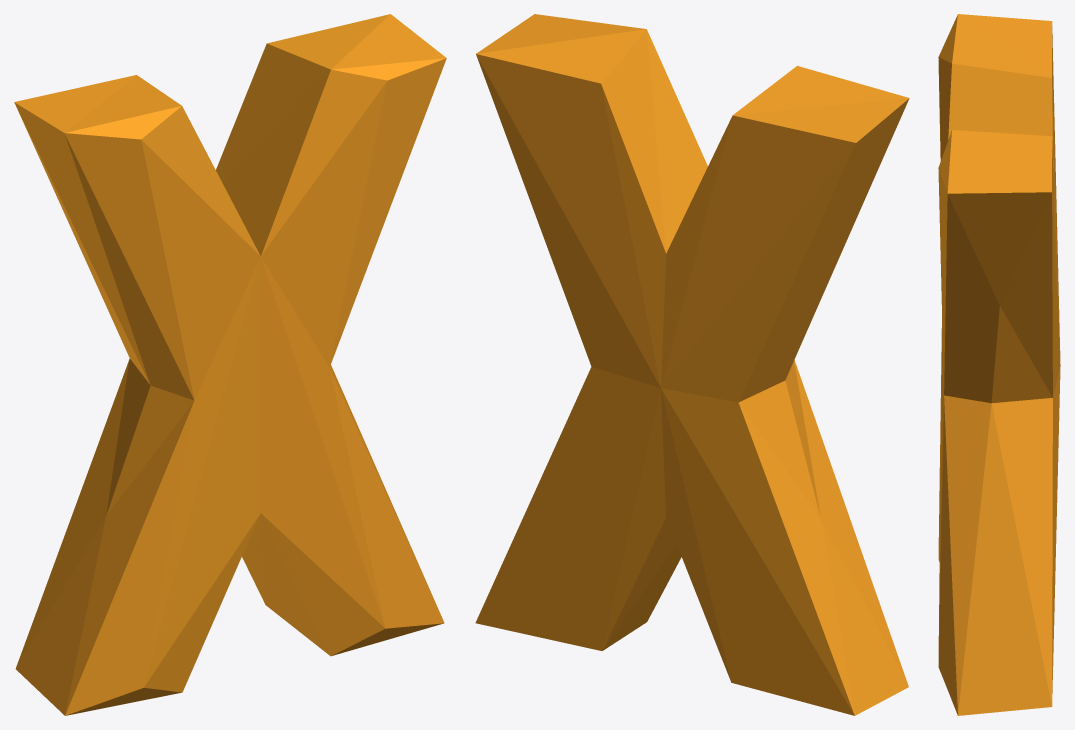
File: SM_Icon_Letter_X_01.fbx
3 renders of one model, left to right at view 1: azimuth 30°, elevation 25°; view 2: azimuth 150°, elevation 25°; view 3: azimuth 270°, elevation 25°, orthographic. The views are drawn at different scales.
Visible parts, largest first — view 1: SM_Icon_Letter_X_01; view 2: SM_Icon_Letter_X_01; view 3: SM_Icon_Letter_X_01.
Part boxes in pixels (x1,y1,x2,y2): SM_Icon_Letter_X_01: (14, 14, 446, 715); SM_Icon_Letter_X_01: (475, 14, 909, 715); SM_Icon_Letter_X_01: (938, 14, 1060, 715).
Size of the model in its own units: 37.32 by 55.03 by 11.36.
